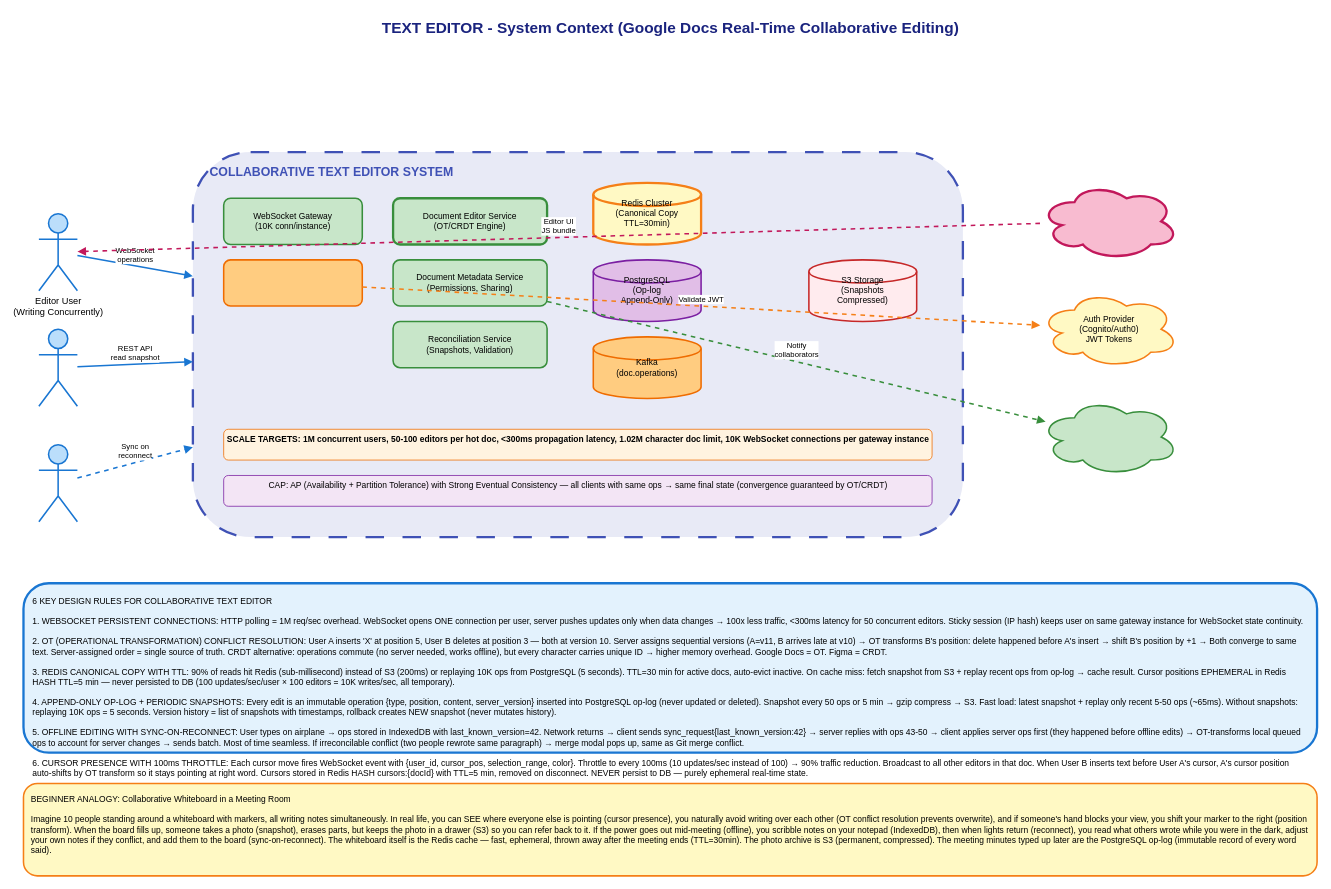
The diagram is 1331 pixels wide and 889 high, and some of its shapes have lost their labels. The shapes that lost their labels are listed below. From the top down, each one's centre as x and y in pixels, then its label:
At (x=1108, y=221): "CDN (CloudFront) Static Assets".
At (x=293, y=282): "API Gateway (REST + Auth)".
At (x=58, y=367): "Viewer User (Read-Only)".
At (x=1109, y=436): "Email Service (SendGrid) Share Notifications".
At (x=58, y=483): "Offline User (IndexedDB Queue)".
